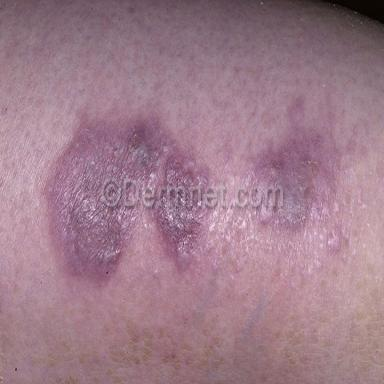lichen: (46, 115, 214, 282), (243, 133, 339, 231), (152, 206, 209, 273)
